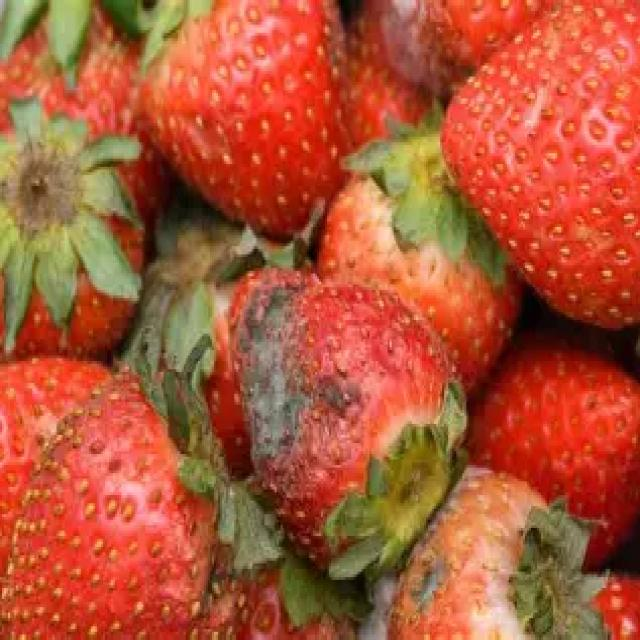Strawberries: (232, 278, 455, 552), (2, 374, 229, 640), (458, 16, 640, 309), (147, 0, 361, 224), (319, 163, 530, 372), (0, 119, 156, 381), (490, 347, 640, 538)
